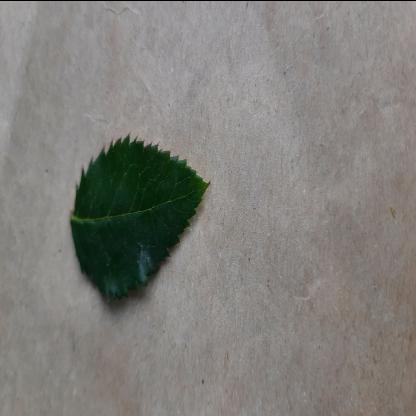powdery-mildew: (68, 106, 210, 302)
